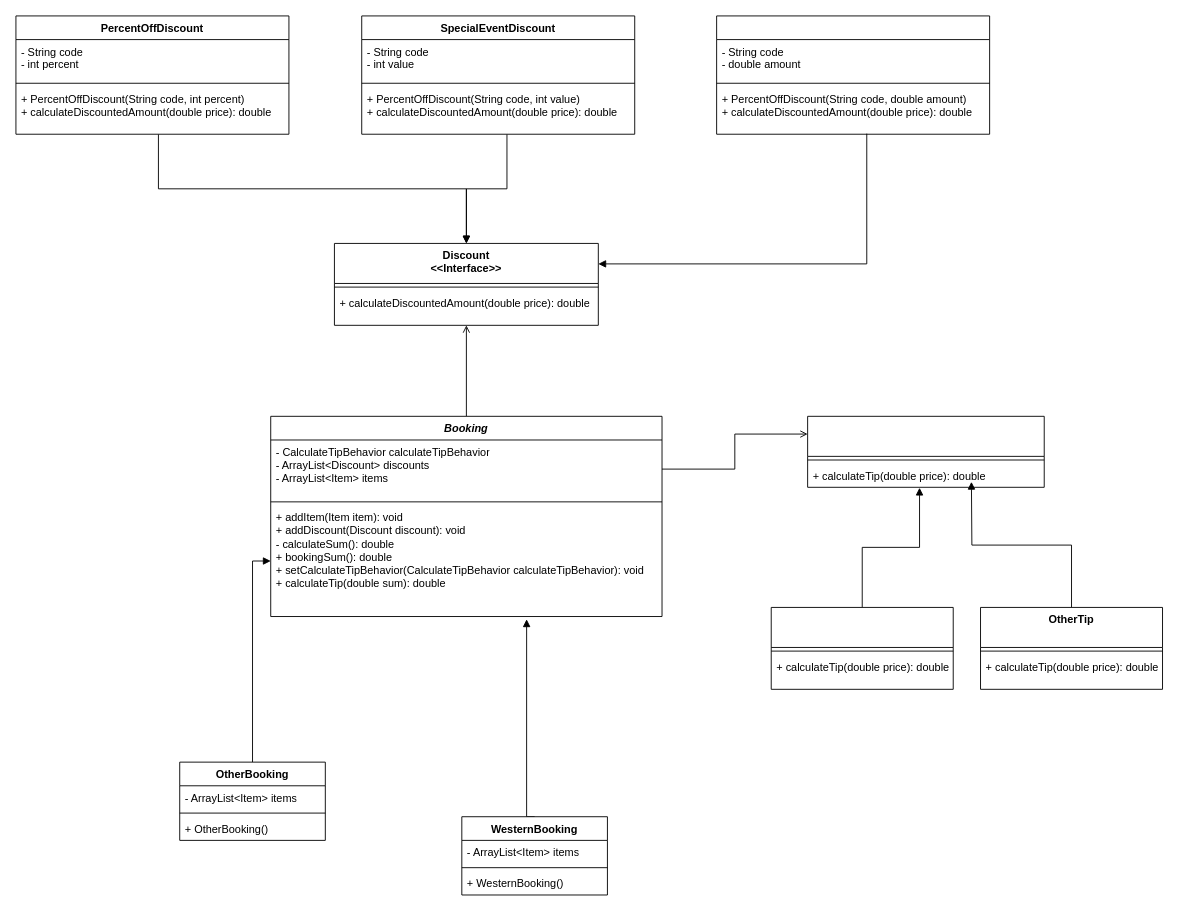
This 1178x914 diagram has some shape labels left out. Each missing label, with the box of its shape:
CalculateTipBehavior <<Interface>>: (807, 415, 1044, 487)
VoucherDiscount: (716, 15, 990, 134)
WesternTip: (770, 607, 953, 689)
